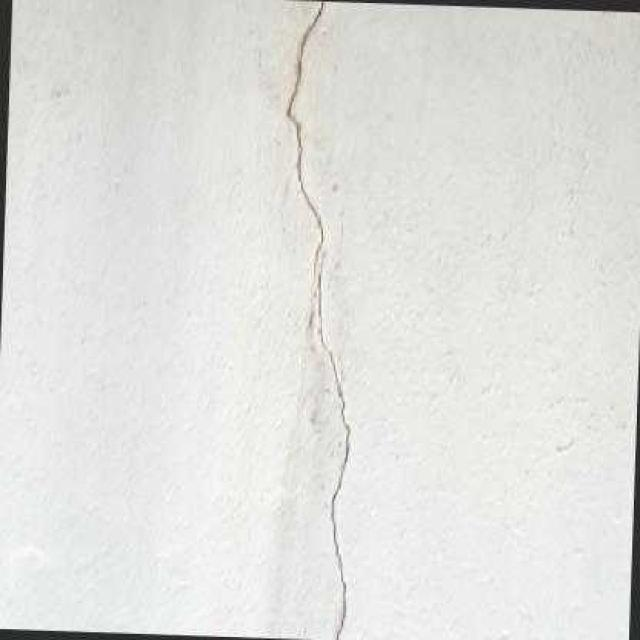D00: (286, 0, 323, 279), (317, 261, 349, 470), (330, 470, 345, 640)
